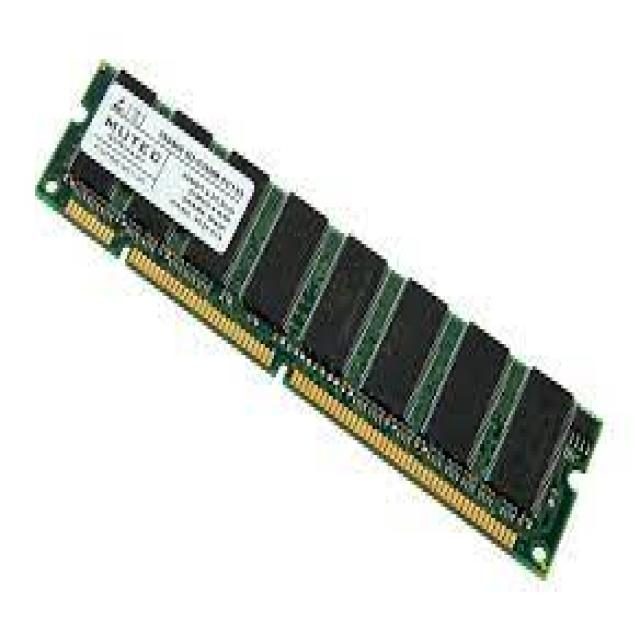Ram: (32, 63, 589, 587)
